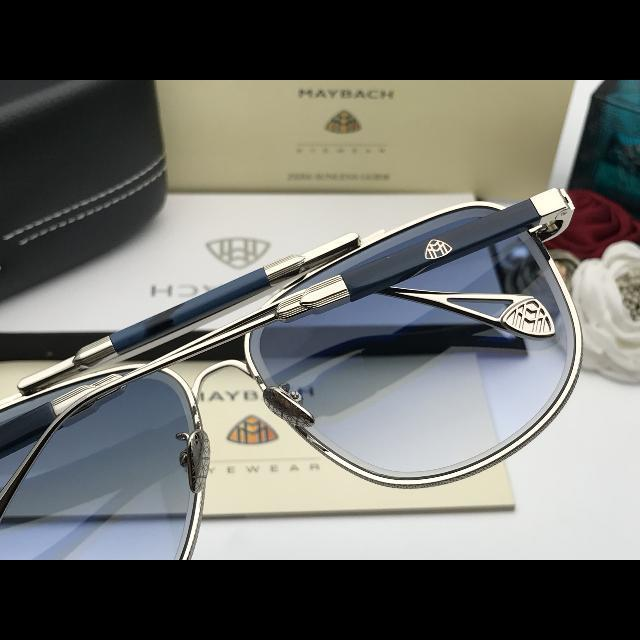glasses: (1, 175, 606, 559)
